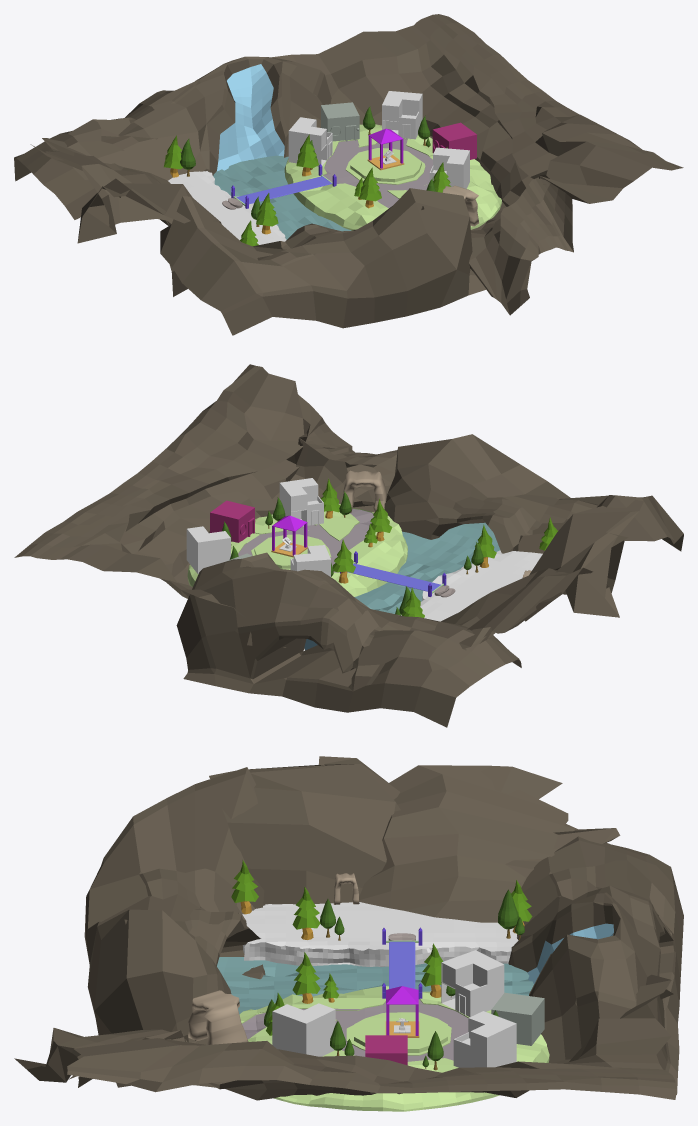
Rendered from CENA-PONTE-VILA-VERSAO1.fbx.
3 views of the same model, one above another, from view 1: azimuth 30°, elevation 25°; view 2: azimuth 150°, elevation 25°; view 3: azimuth 270°, elevation 25° (orthographic). The views are drawn at different scales.
Parts seen in each view (by area): view 1: Plane.026, Plane.024, Plane.025, Plane.002, Plane.027, Plane.023, Plane.028, Plane.012, Plane.015, Plane.014, Plane.011, Plane.013 (+5 smaller); view 2: Plane.025, Plane.026, Plane.024, Plane.027, Plane.002, Plane.023, Plane.028, Plane.011, Plane.012, Plane.013, Cube.002, Plane.006 (+2 smaller); view 3: Plane.027, Plane.024, Plane.026, Plane.025, Plane.028, Plane.002, Plane.023, Plane.015, Plane.012, Plane.011, Cube.002, Plane.014 (+8 smaller).
Part boxes in pixels (bbox=[...]): Plane.026: bbox=[271, 14, 683, 315]; Plane.024: bbox=[160, 188, 485, 335]; Plane.025: bbox=[14, 56, 331, 219]; Plane.002: bbox=[284, 124, 501, 230]; Plane.027: bbox=[30, 138, 221, 243]; Plane.023: bbox=[213, 155, 351, 239]; Plane.028: bbox=[168, 171, 286, 244]; Plane.012: bbox=[382, 91, 422, 139]; Plane.015: bbox=[288, 117, 332, 166]; Plane.014: bbox=[321, 102, 359, 141]; Plane.011: bbox=[429, 147, 469, 188]; Plane.013: bbox=[432, 122, 476, 159]; Plane.025: bbox=[176, 552, 521, 727]; Plane.026: bbox=[14, 364, 397, 647]; Plane.024: bbox=[384, 434, 683, 594]; Plane.027: bbox=[441, 499, 643, 650]; Plane.002: bbox=[187, 504, 407, 596]; Plane.023: bbox=[354, 522, 500, 613]; Plane.028: bbox=[401, 550, 542, 621]; Plane.011: bbox=[279, 478, 323, 526]; Plane.012: bbox=[186, 526, 230, 573]; Plane.013: bbox=[210, 500, 255, 542]; Cube.002: bbox=[343, 470, 386, 512]; Plane.006: bbox=[347, 563, 440, 591]; Plane.027: bbox=[209, 756, 620, 922]; Plane.024: bbox=[84, 767, 265, 1088]; Plane.026: bbox=[14, 974, 677, 1100]; Plane.025: bbox=[508, 836, 683, 1094]; Plane.028: bbox=[242, 902, 518, 966]; Plane.002: bbox=[239, 986, 549, 1111]; Plane.023: bbox=[217, 957, 533, 1014]; Plane.015: bbox=[441, 950, 504, 1016]; Plane.012: bbox=[453, 1011, 516, 1067]; Plane.011: bbox=[272, 1003, 335, 1056]; Cube.002: bbox=[188, 990, 248, 1044]; Plane.014: bbox=[491, 992, 544, 1045].
Bounding box in the file's own units: 19230 × 5342 × 17676.
